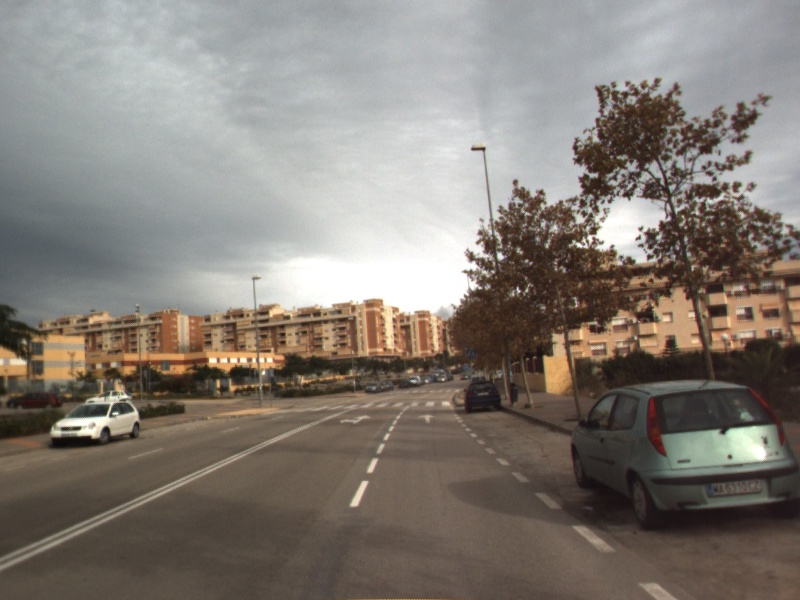STRAIGHT: (416, 411, 439, 425)
STRAIGHT_LEFT: (337, 413, 373, 426)
